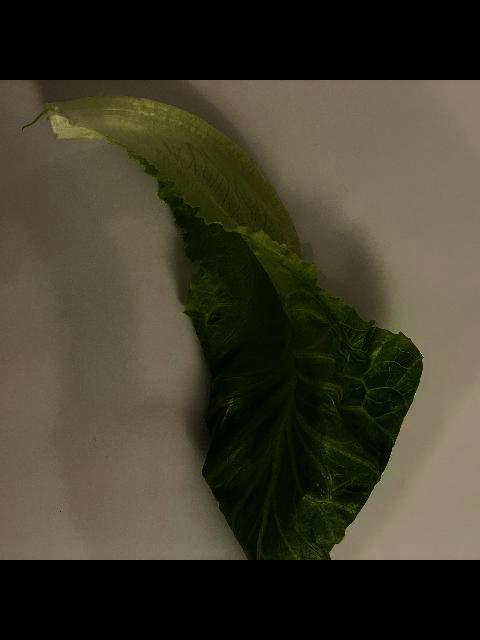lettuce: (40, 95, 424, 560)
